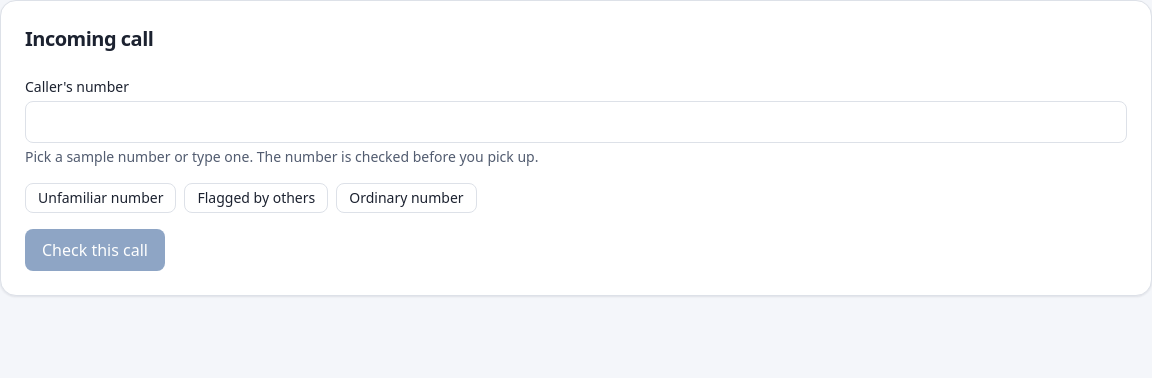
IncomingCallScreen › offers a retry and changes nothing when screening fails
The image size is (1152, 378).
Click the button "Ordinary number": (406, 198) [336,183,477,213]
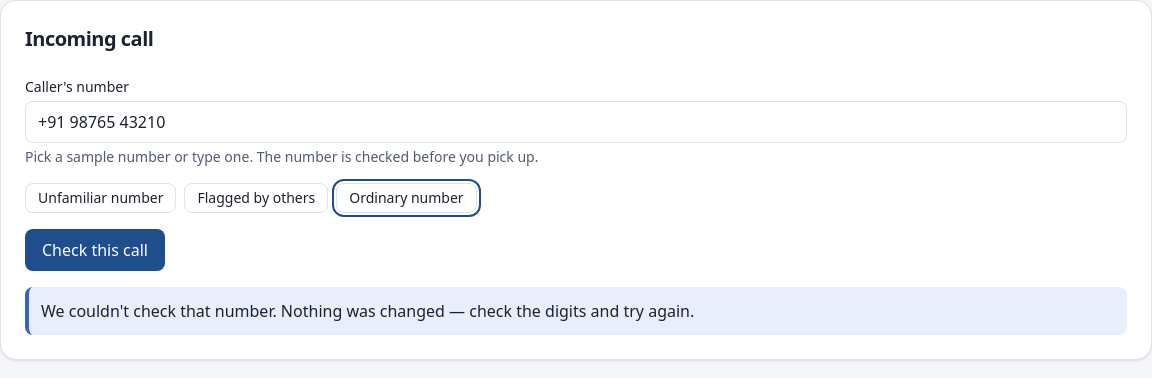
Expected: the text "couldn't check that number" is shown, [41,300,694,322]
Expected: the button "Check this call" is enabled, [25,229,165,271]
